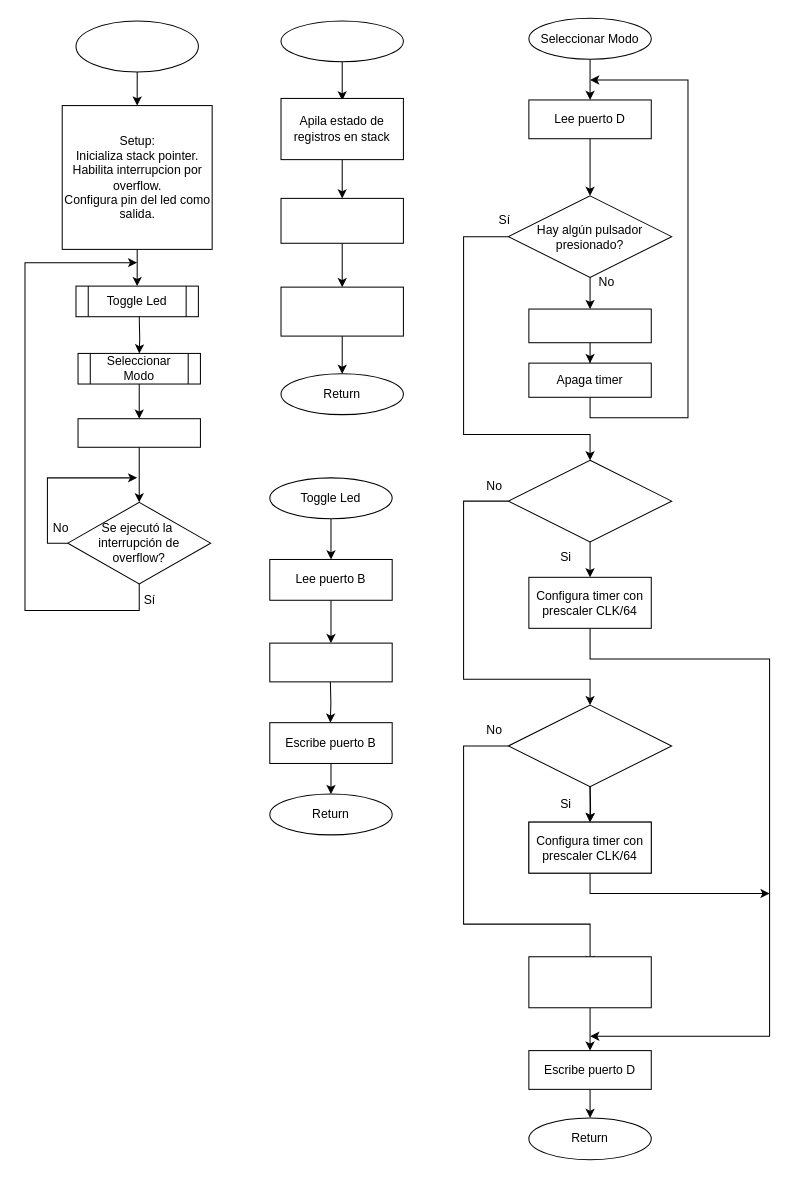
Image size: 796x1177. Some labels were removed from this diagram. Each missing label, with the centre of its shape:
"Configura timer con prescaler CLK/1024" goes at point 589,982.
"Desapila estado de registros en stack" goes at point 341,311.
"Enciende LED" goes at point 589,325.
"Inicializar contador" goes at point 138,432.
"Inicio" goes at point 136,46.
"Interrupción TOV1" goes at point 341,41.
"Setea un 1 en el registro de overflow" goes at point 341,220.
"Solo el pulsador 0 está presionado?" goes at point 589,745.
"Solo el pulsador 1 está presionado?" goes at point 589,500.
"XOR con máscara" goes at point 330,662.
